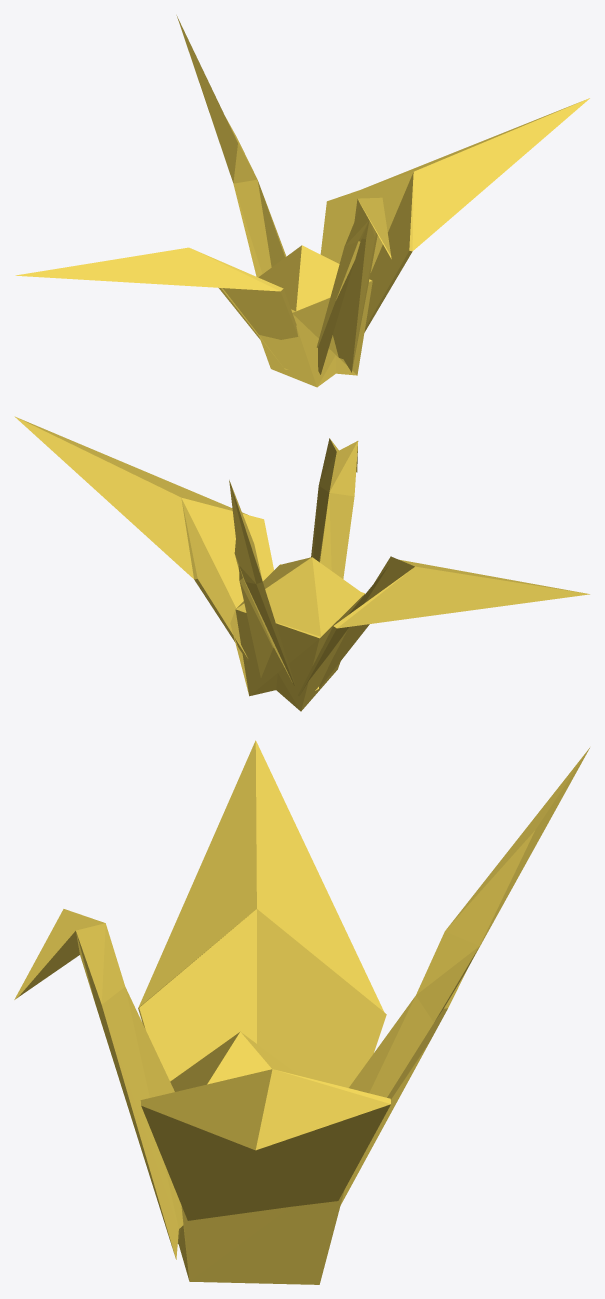
File: other-crane-276.glb
The picture shows the model from 3 angles, top to bottom: view 1: azimuth 30°, elevation 25°; view 2: azimuth 150°, elevation 25°; view 3: azimuth 270°, elevation 25°; orthographic projection. The views are drawn at different scales.
Visible parts, largest first — view 1: default; view 2: default; view 3: default.
Part boxes in pixels (left/top/right/bottom): default: left=15, top=15, right=589, bottom=387; default: left=14, top=416, right=589, bottom=711; default: left=14, top=740, right=589, bottom=1284.
Bounding box in the file's own units: 129 × 63.52 × 66.7.
